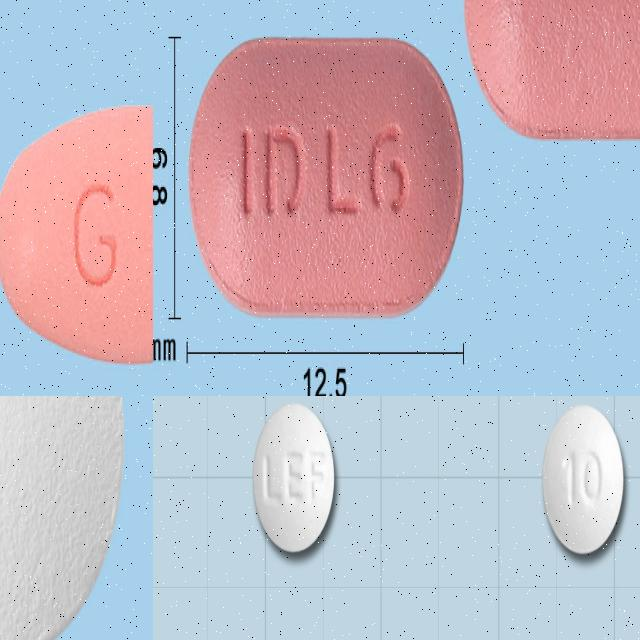Lesacra: (0, 396, 124, 640)
Levofexin - 500mg: (188, 39, 466, 317), (463, 0, 640, 137)
Levona: (0, 105, 153, 366)
R-A Tab: (540, 403, 626, 555), (252, 402, 336, 555)
